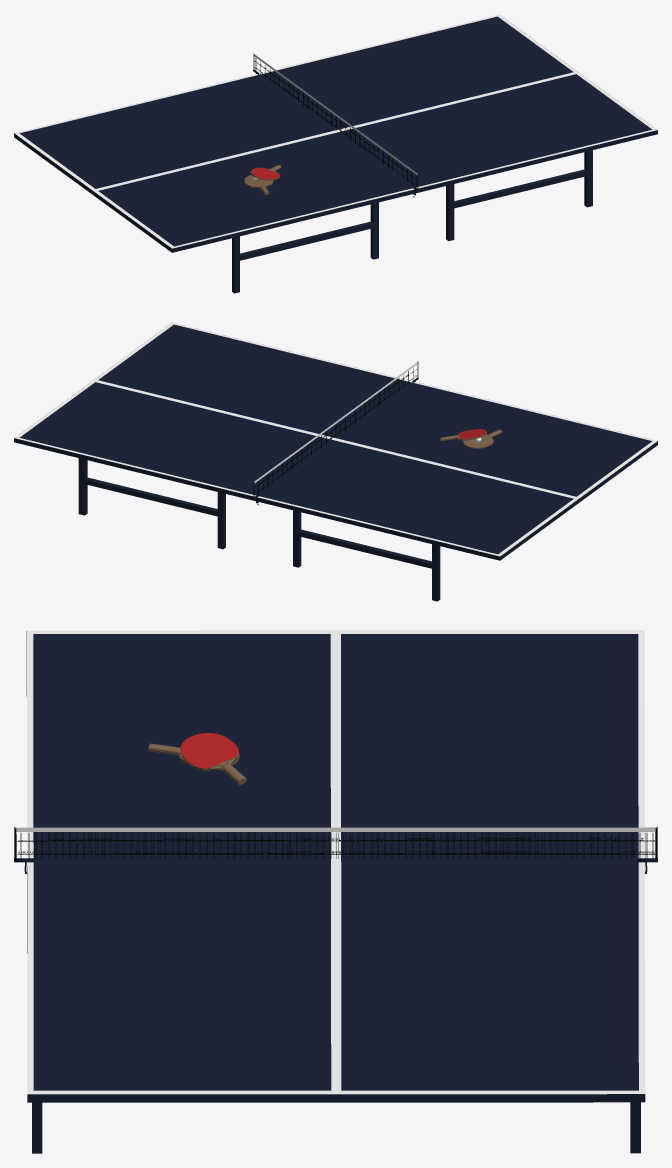
The model's file is table-16.glb.
The picture shows the model from 3 angles, top to bottom: view 1: azimuth 30°, elevation 25°; view 2: azimuth 150°, elevation 25°; view 3: azimuth 270°, elevation 25°; orthographic projection. The views are drawn at different scales.
Parts seen in each view (by area): view 1: Table, NET HOLDER; view 2: Table, NET HOLDER; view 3: Table, NET HOLDER, raquet.
Part boxes in pixels (x1,y1,x2,y2): Table: [14, 14, 657, 293]; NET HOLDER: [253, 53, 418, 197]; Table: [14, 322, 657, 601]; NET HOLDER: [253, 361, 418, 505]; Table: [26, 630, 645, 1153]; NET HOLDER: [14, 826, 657, 873]; raquet: [180, 733, 246, 784].
Size of the model in its own units: 15.01 by 2.35 by 8.81.
